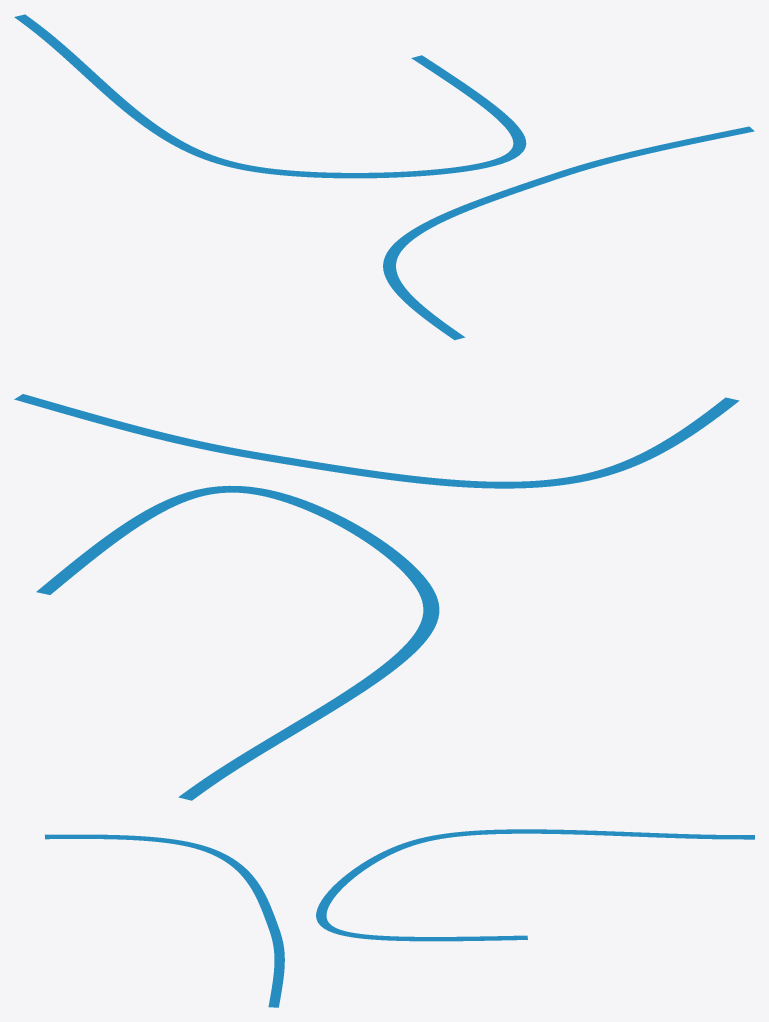
The model's file is guide.glb.
3 views of the same model, one above another, from view 1: azimuth 30°, elevation 25°; view 2: azimuth 150°, elevation 25°; view 3: azimuth 270°, elevation 25° (orthographic). The views are drawn at different scales.
Parts seen in each view (by area): view 1: static; view 2: static; view 3: static.
Boxes of the visible parts, x1,y1,x2,y2 form: static: (14,14,754,340); static: (14,394,739,800); static: (45,829,754,1007).
Size of the model in its own units: 12.94 by 0 by 22.73.
